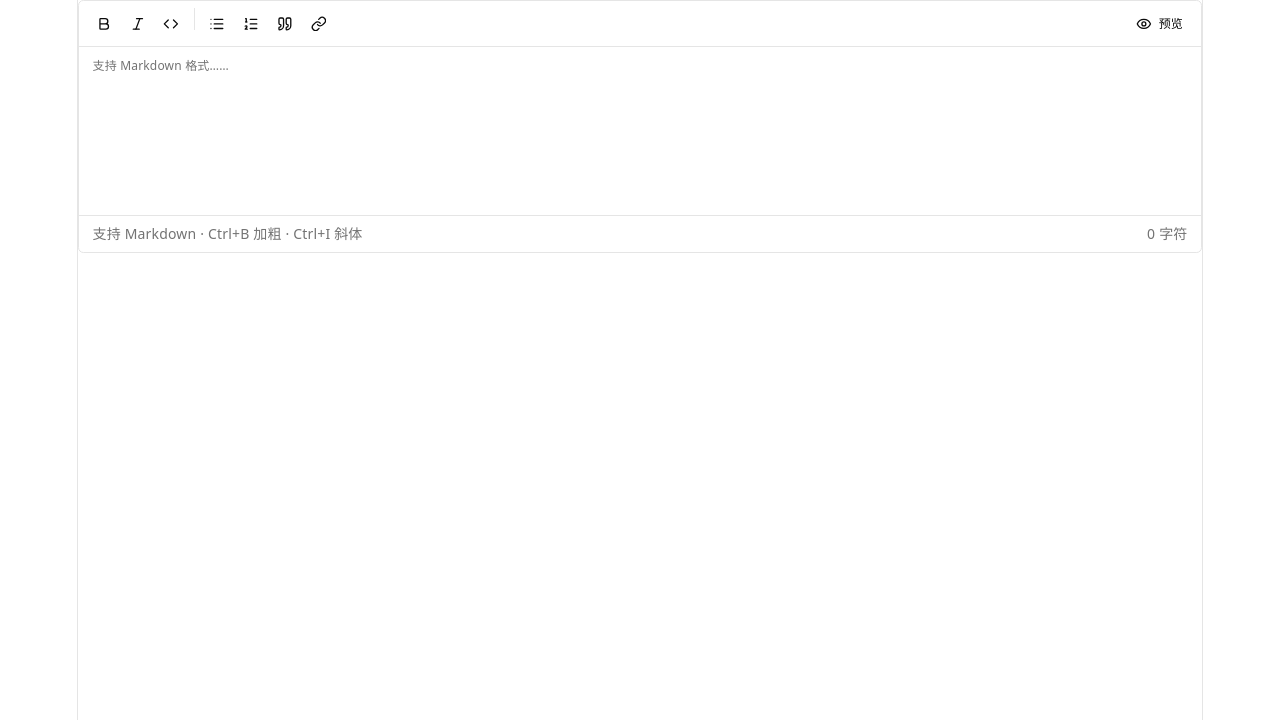
Scenario: RichTextEditor › toolbar buttons are disabled in preview mode
Step 1. Click the button "预览" → (1160, 24), box [1127,10,1192,37]
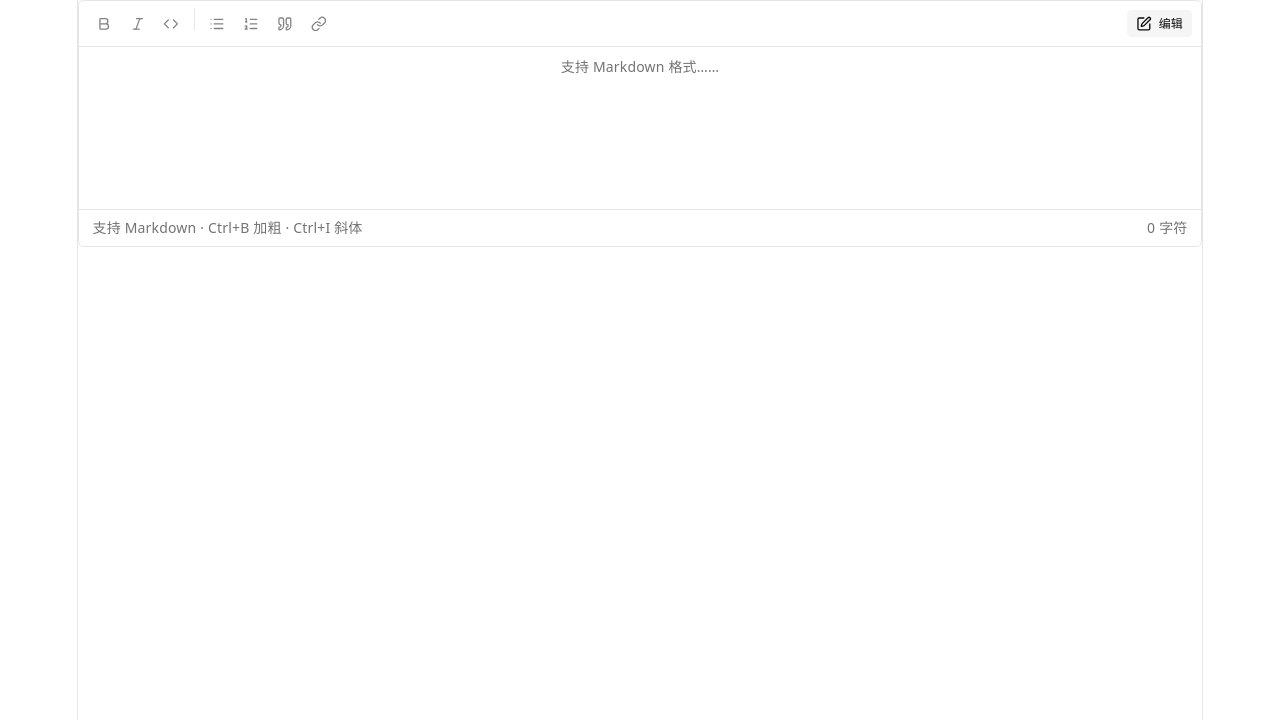
expect the button named "加粗" is disabled: met, box [88,8,120,39]
